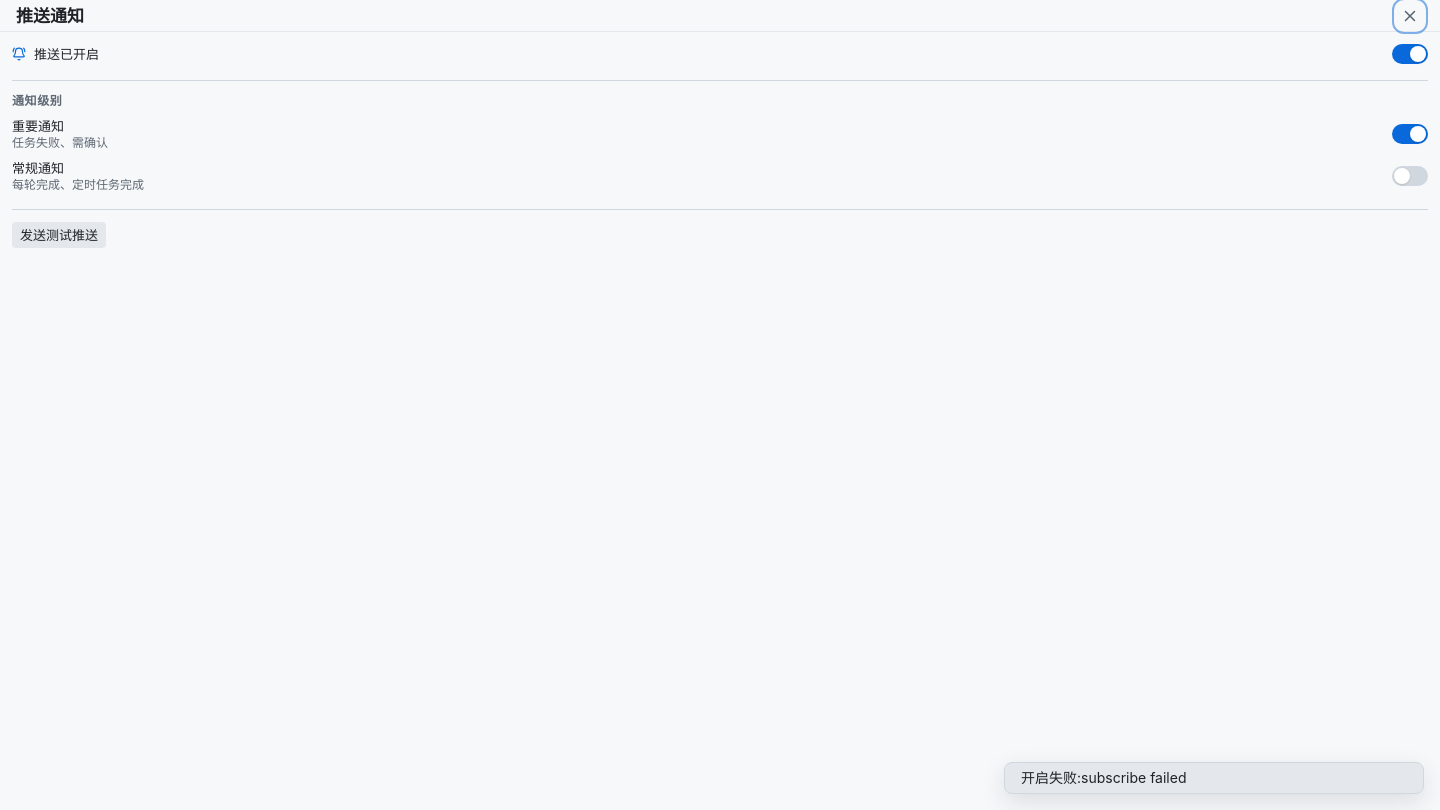
Test: PushSettings › test-push failure shows a toast
Click the button "发送测试推送" at (59, 235), box [12, 222, 106, 248]
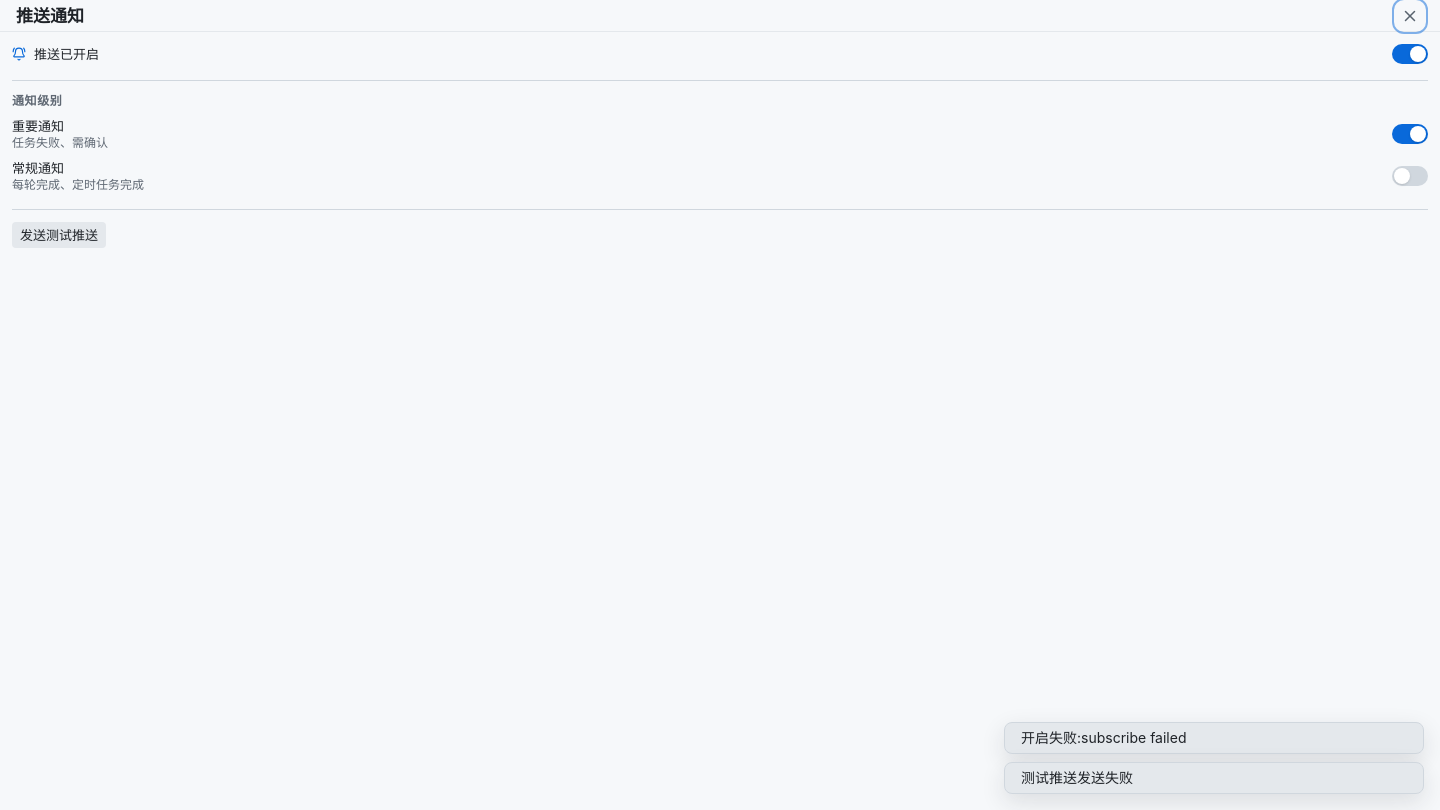
Check: the text "测试推送发送失败" is shown, box [1021, 769, 1133, 786]
